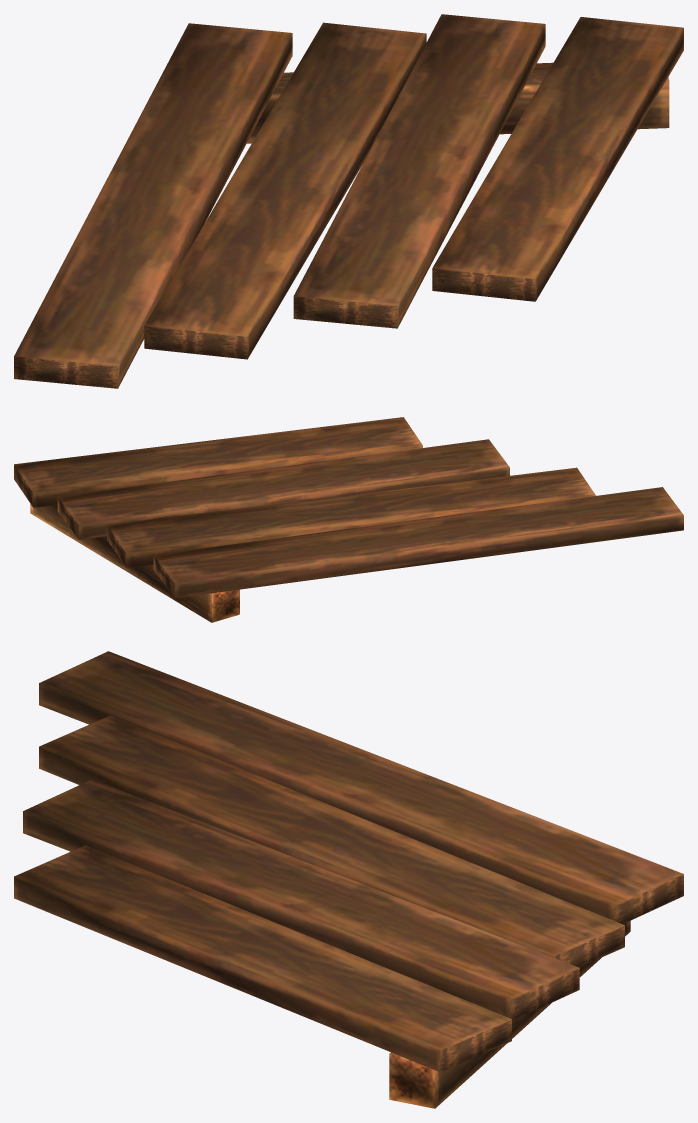
The model's file is SWORDLIGHT20_JAILPLATFORM02.fbx.
3 renders of one model, top to bottom at view 1: azimuth 30°, elevation 25°; view 2: azimuth 150°, elevation 25°; view 3: azimuth 270°, elevation 25°, orthographic. The views are drawn at different scales.
Parts seen in each view (by area): view 1: SWORDLIGHT20_JAILPLATFORM02; view 2: SWORDLIGHT20_JAILPLATFORM02; view 3: SWORDLIGHT20_JAILPLATFORM02.
Part boxes in pixels (x1,y1,x2,y2): SWORDLIGHT20_JAILPLATFORM02: (14,14,683,388); SWORDLIGHT20_JAILPLATFORM02: (14,417,683,622); SWORDLIGHT20_JAILPLATFORM02: (14,651,683,1108).
Size of the model in its own units: 74320 by 6188 by 52993.
Materials: 2 (2 with a texture image).
